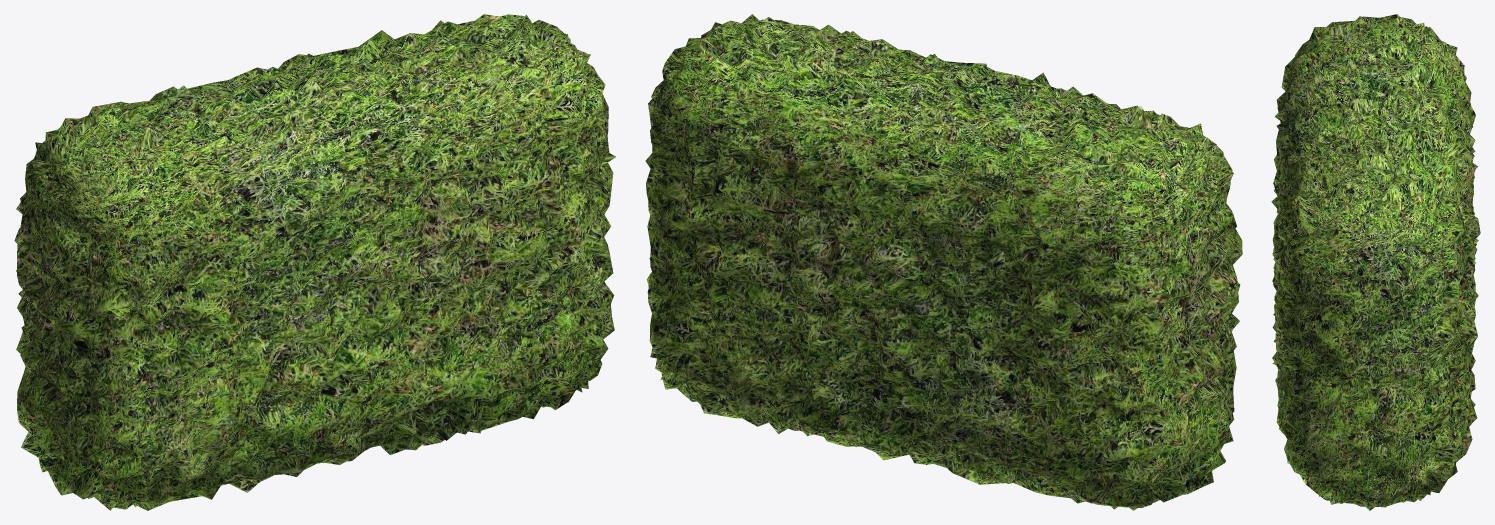
File: rhedgeTextured.obj
3 views of the same model, side by side, from view 1: azimuth 30°, elevation 25°; view 2: azimuth 150°, elevation 25°; view 3: azimuth 270°, elevation 25° (orthographic). The views are drawn at different scales.
Visible parts, largest first — view 1: Cube.001; view 2: Cube.001; view 3: Cube.001.
Boxes of the visible parts, bbox=[...] form: Cube.001: bbox=[14, 14, 615, 510]; Cube.001: bbox=[645, 14, 1242, 510]; Cube.001: bbox=[1271, 14, 1480, 510].
Bounding box in the file's own units: 153 × 100 × 58.74.
Materials: 1 (1 with a texture image).
